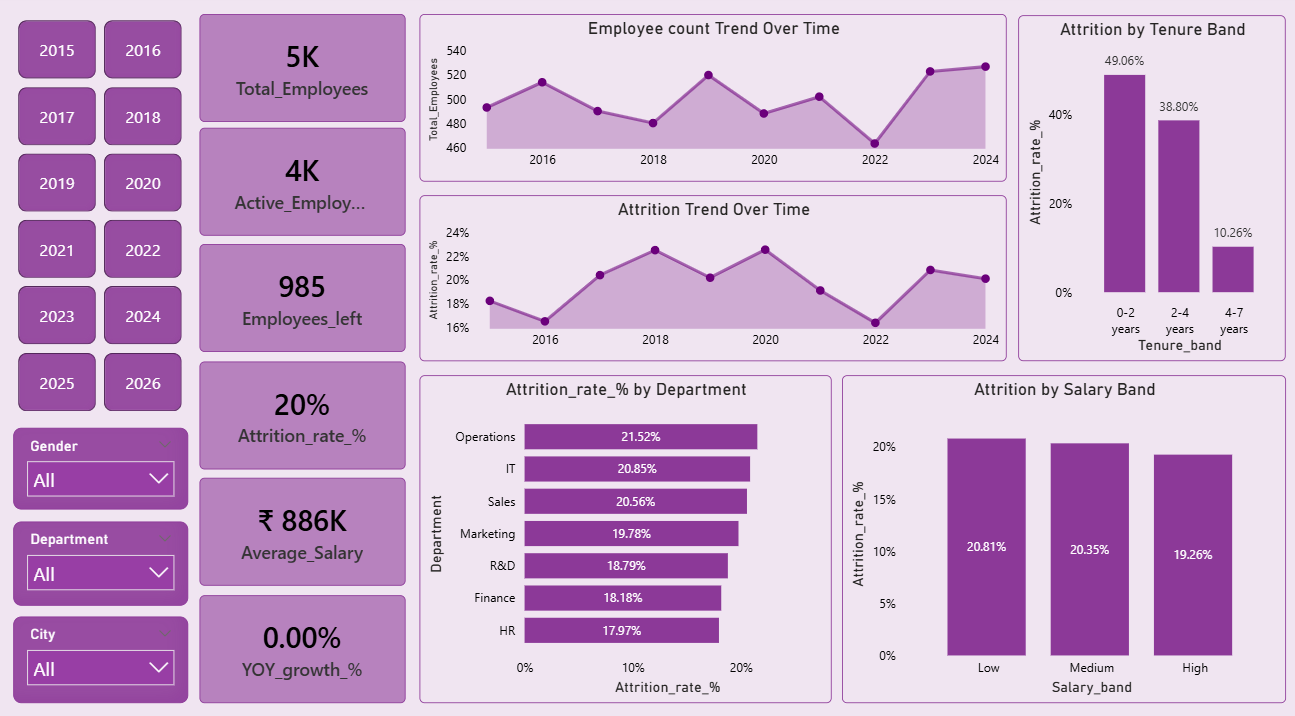

What the dashboard file says about the page in this screenshot:
{"tool":"powerbi","page":{"name":"Dashboard","canvas":[1280,720],"ordinal":0},"visuals":[{"type":"cardVisual","fields":{"Data":["Measures_Table.Total_Employees"]},"box":[197.9,20,201.6,105.2],"z":0},{"type":"lineChart","title":"Attrition Trend Over Time","fields":{"Category":["Date_table.Year"],"Y":["Measures_Table.Attrition_rate_%"]},"box":[413.3,196.9,574.7,162.6],"z":1000},{"type":"lineChart","title":"Employee count Trend Over Time","fields":{"Category":["Date_table.Year"],"Y":["Measures_Table.Total_Employees"]},"box":[413.3,19.6,574.7,163.9],"z":2000},{"type":"cardVisual","fields":{"Data":["Measures_Table.Active_Employees"]},"box":[197.9,130.3,201.6,105.2],"z":3000},{"type":"cardVisual","fields":{"Data":["Measures_Table.Employees_left"]},"box":[197.9,244.2,201.6,105.2],"z":4000},{"type":"cardVisual","fields":{"Data":["Measures_Table.Average_Salary"]},"box":[197.9,473.4,201.6,105.2],"z":5000},{"type":"cardVisual","fields":{"Data":["Measures_Table.Attrition_rate_%"]},"box":[197.9,359.5,201.6,105.2],"z":6000},{"type":"cardVisual","fields":{"Data":["Measures_Table.YOY_growth_%"]},"box":[197.9,588.6,201.6,105.2],"z":7000},{"type":"barChart","fields":{"Y":["Measures_Table.Attrition_rate_%"],"Category":["HR_Employee_Data.Department"]},"box":[413.8,372.8,403,320.9],"z":8000},{"type":"clusteredColumnChart","title":"Attrition by Tenure Band","fields":{"Category":["HR_Employee_Data.Tenure_band"],"Y":["Measures_Table.Attrition_rate_%"]},"box":[999.1,20.8,261.7,338.7],"z":9000},{"type":"columnChart","title":"Attrition by Salary Band","fields":{"Y":["Measures_Table.Attrition_rate_%"],"Category":["HR_Employee_Data.Salary_band"]},"box":[826.4,372.8,434.3,320.9],"z":10000},{"type":"advancedSlicerVisual","fields":{"Values":["Date_table.Year"]},"box":[15.7,20.5,171.3,392.1],"z":11000},{"type":"slicer","title":"Gender","fields":{"Values":["HR_Employee_Data.Gender"]},"box":[15.7,424.7,171.3,79.6],"z":12000},{"type":"slicer","title":"Department","fields":{"Values":["HR_Employee_Data.Department"]},"box":[15.7,516.4,171.3,82],"z":13000},{"type":"slicer","title":"City","fields":{"Values":["HR_Employee_Data.City"]},"box":[15.7,609.3,171.3,84.5],"z":14000}]}

Visuals, with their boxes in screenshot pixels (x1, y1, x2, y2), scaled from the page's 1280x720 canvas onto the 1295x716 screenshot:
cardVisual - Measures_Table.Total_Employees: select_region(200, 20, 404, 125)
"Attrition Trend Over Time" lineChart: select_region(418, 196, 1000, 358)
"Employee count Trend Over Time" lineChart: select_region(418, 19, 1000, 182)
cardVisual - Measures_Table.Active_Employees: select_region(200, 130, 404, 234)
cardVisual - Measures_Table.Employees_left: select_region(200, 243, 404, 347)
cardVisual - Measures_Table.Average_Salary: select_region(200, 471, 404, 575)
cardVisual - Measures_Table.Attrition_rate_%: select_region(200, 358, 404, 462)
cardVisual - Measures_Table.YOY_growth_%: select_region(200, 585, 404, 690)
barChart - Measures_Table.Attrition_rate_% x HR_Employee_Data.Department: select_region(419, 371, 826, 690)
"Attrition by Tenure Band" clusteredColumnChart: select_region(1011, 21, 1276, 358)
"Attrition by Salary Band" columnChart: select_region(836, 371, 1275, 690)
advancedSlicerVisual - Date_table.Year: select_region(16, 20, 189, 410)
"Gender" slicer: select_region(16, 422, 189, 501)
"Department" slicer: select_region(16, 514, 189, 595)
"City" slicer: select_region(16, 606, 189, 690)
